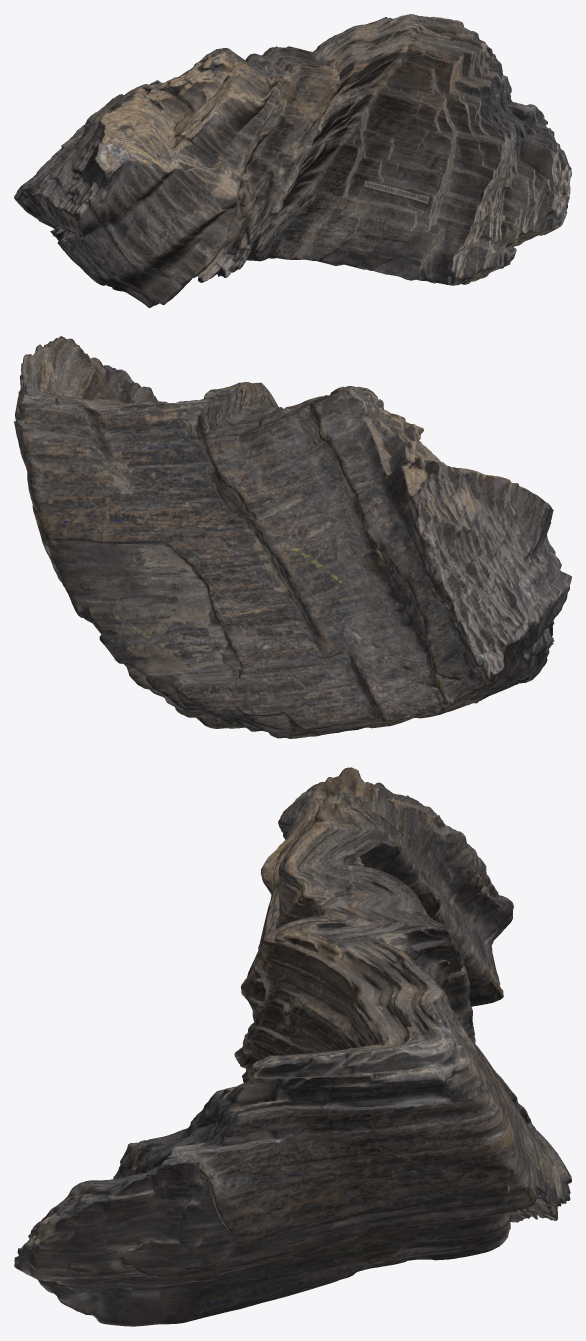
3 views of the same model, one above another, from view 1: azimuth 30°, elevation 25°; view 2: azimuth 150°, elevation 25°; view 3: azimuth 270°, elevation 25° (orthographic). The views are drawn at different scales.
Visible parts, largest first — view 1: Metashape to blender; view 2: Metashape to blender; view 3: Metashape to blender.
Boxes of the visible parts, x1=… form: Metashape to blender: x1=14, y1=14, x2=571, y2=307; Metashape to blender: x1=14, y1=336, x2=571, y2=738; Metashape to blender: x1=14, y1=767, x2=571, y2=1326.
Bounding box in the file's own units: 1.77 × 0.9194 × 1.17.
1 material, 1 textured.
